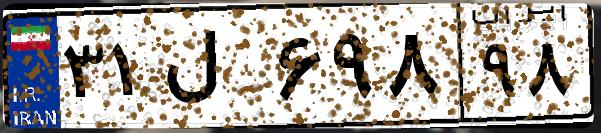1: (110, 28, 158, 98)
3: (57, 26, 110, 100)
6: (270, 28, 330, 110)
8: (385, 28, 445, 110), (525, 38, 570, 115)
9: (330, 28, 385, 110), (475, 38, 525, 113)
ل: (158, 20, 270, 120)
